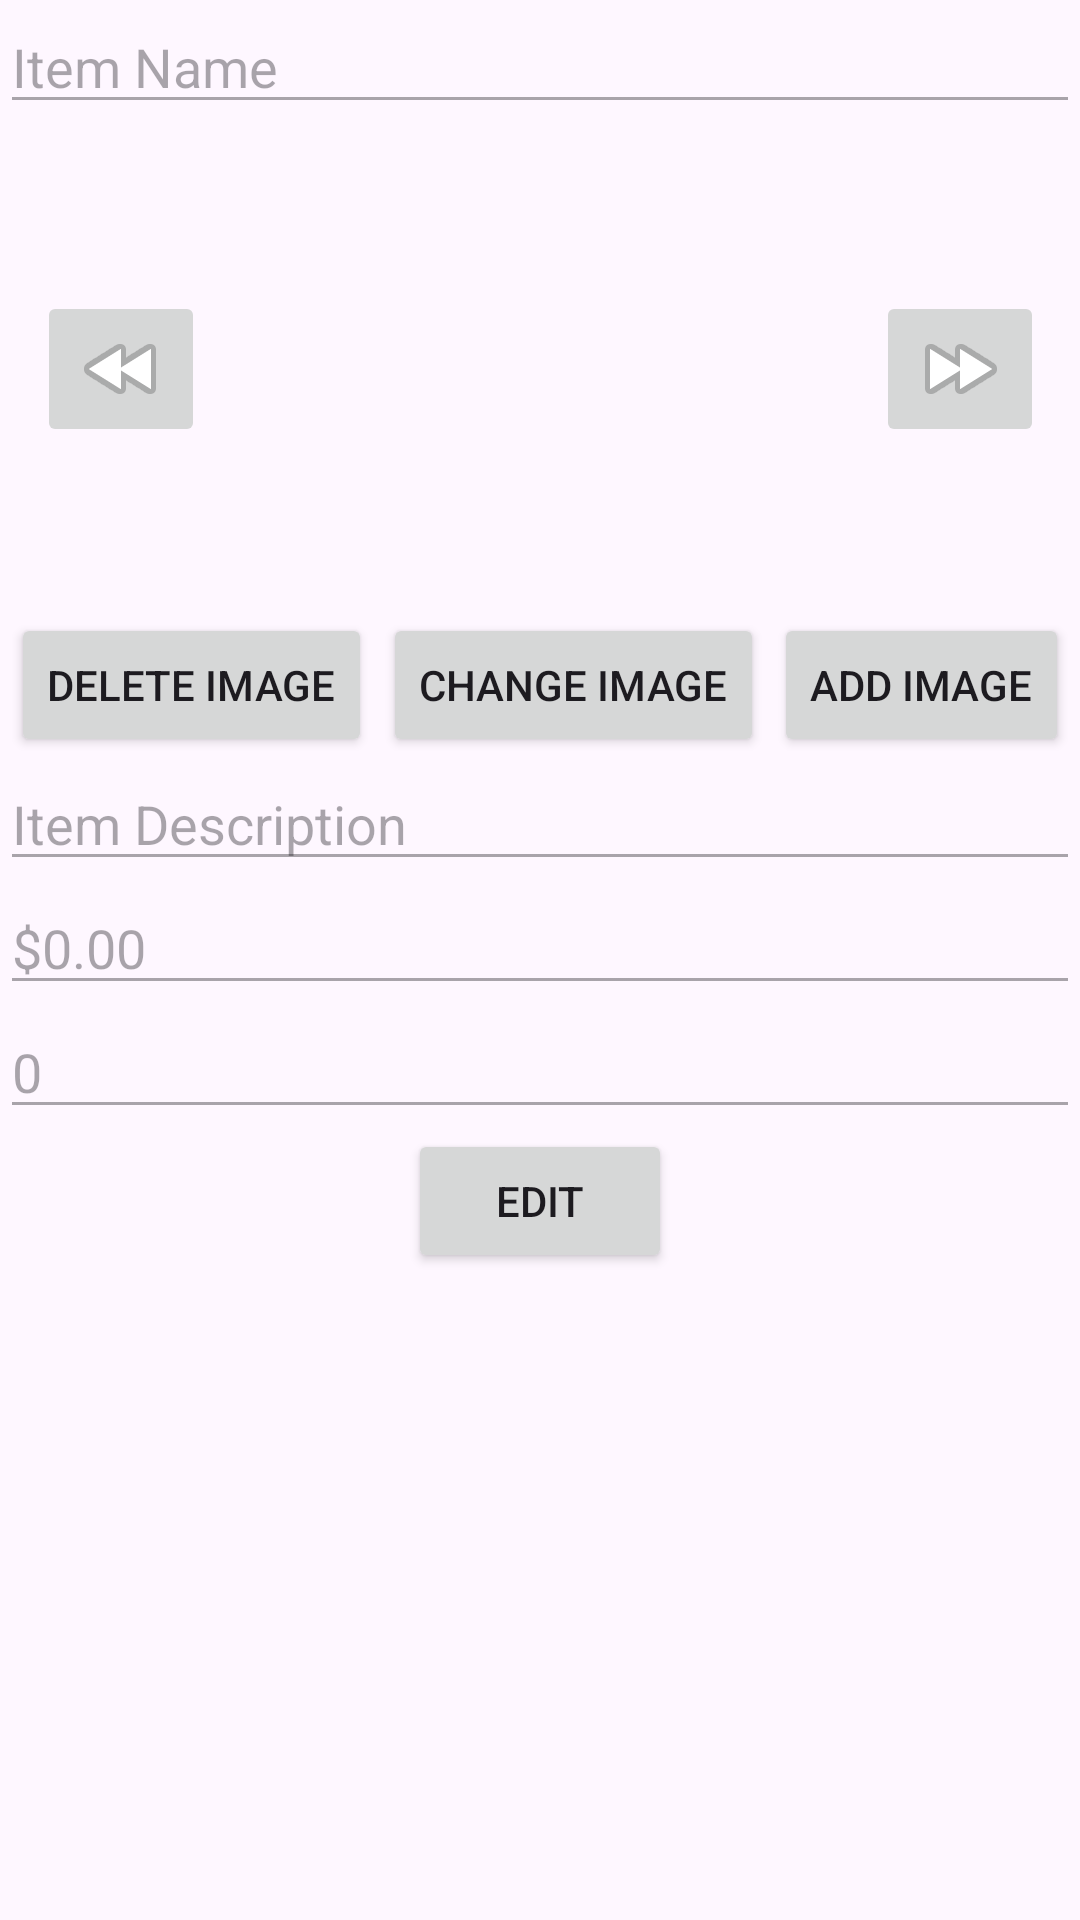

Screen size 1080x1920. Icon name, then its center in pixels as [x,y]:
rew: [121,369]
